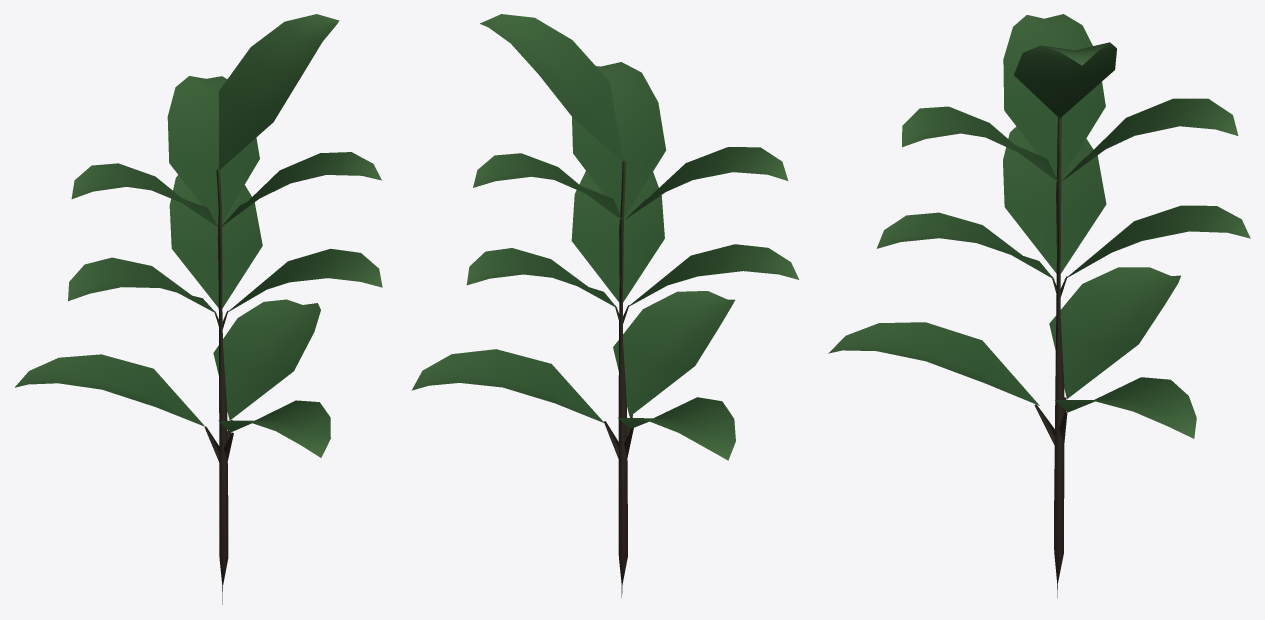
The model's file is plants-leafy-plants-rubber-plant_v4.glb.
3 views of the same model, side by side, from view 1: azimuth 30°, elevation 25°; view 2: azimuth 150°, elevation 25°; view 3: azimuth 270°, elevation 25° (orthographic). The views are drawn at different scales.
Parts seen in each view (by area): view 1: Rubber Plant_v4; view 2: Rubber Plant_v4; view 3: Rubber Plant_v4.
Boxes of the visible parts, left/top/right/bottom form: Rubber Plant_v4: left=15, top=14, right=382, bottom=604; Rubber Plant_v4: left=411, top=14, right=799, bottom=597; Rubber Plant_v4: left=828, top=14, right=1250, bottom=598.
Bounding box in the file's own units: 0.4692 × 0.8 × 0.4972.
